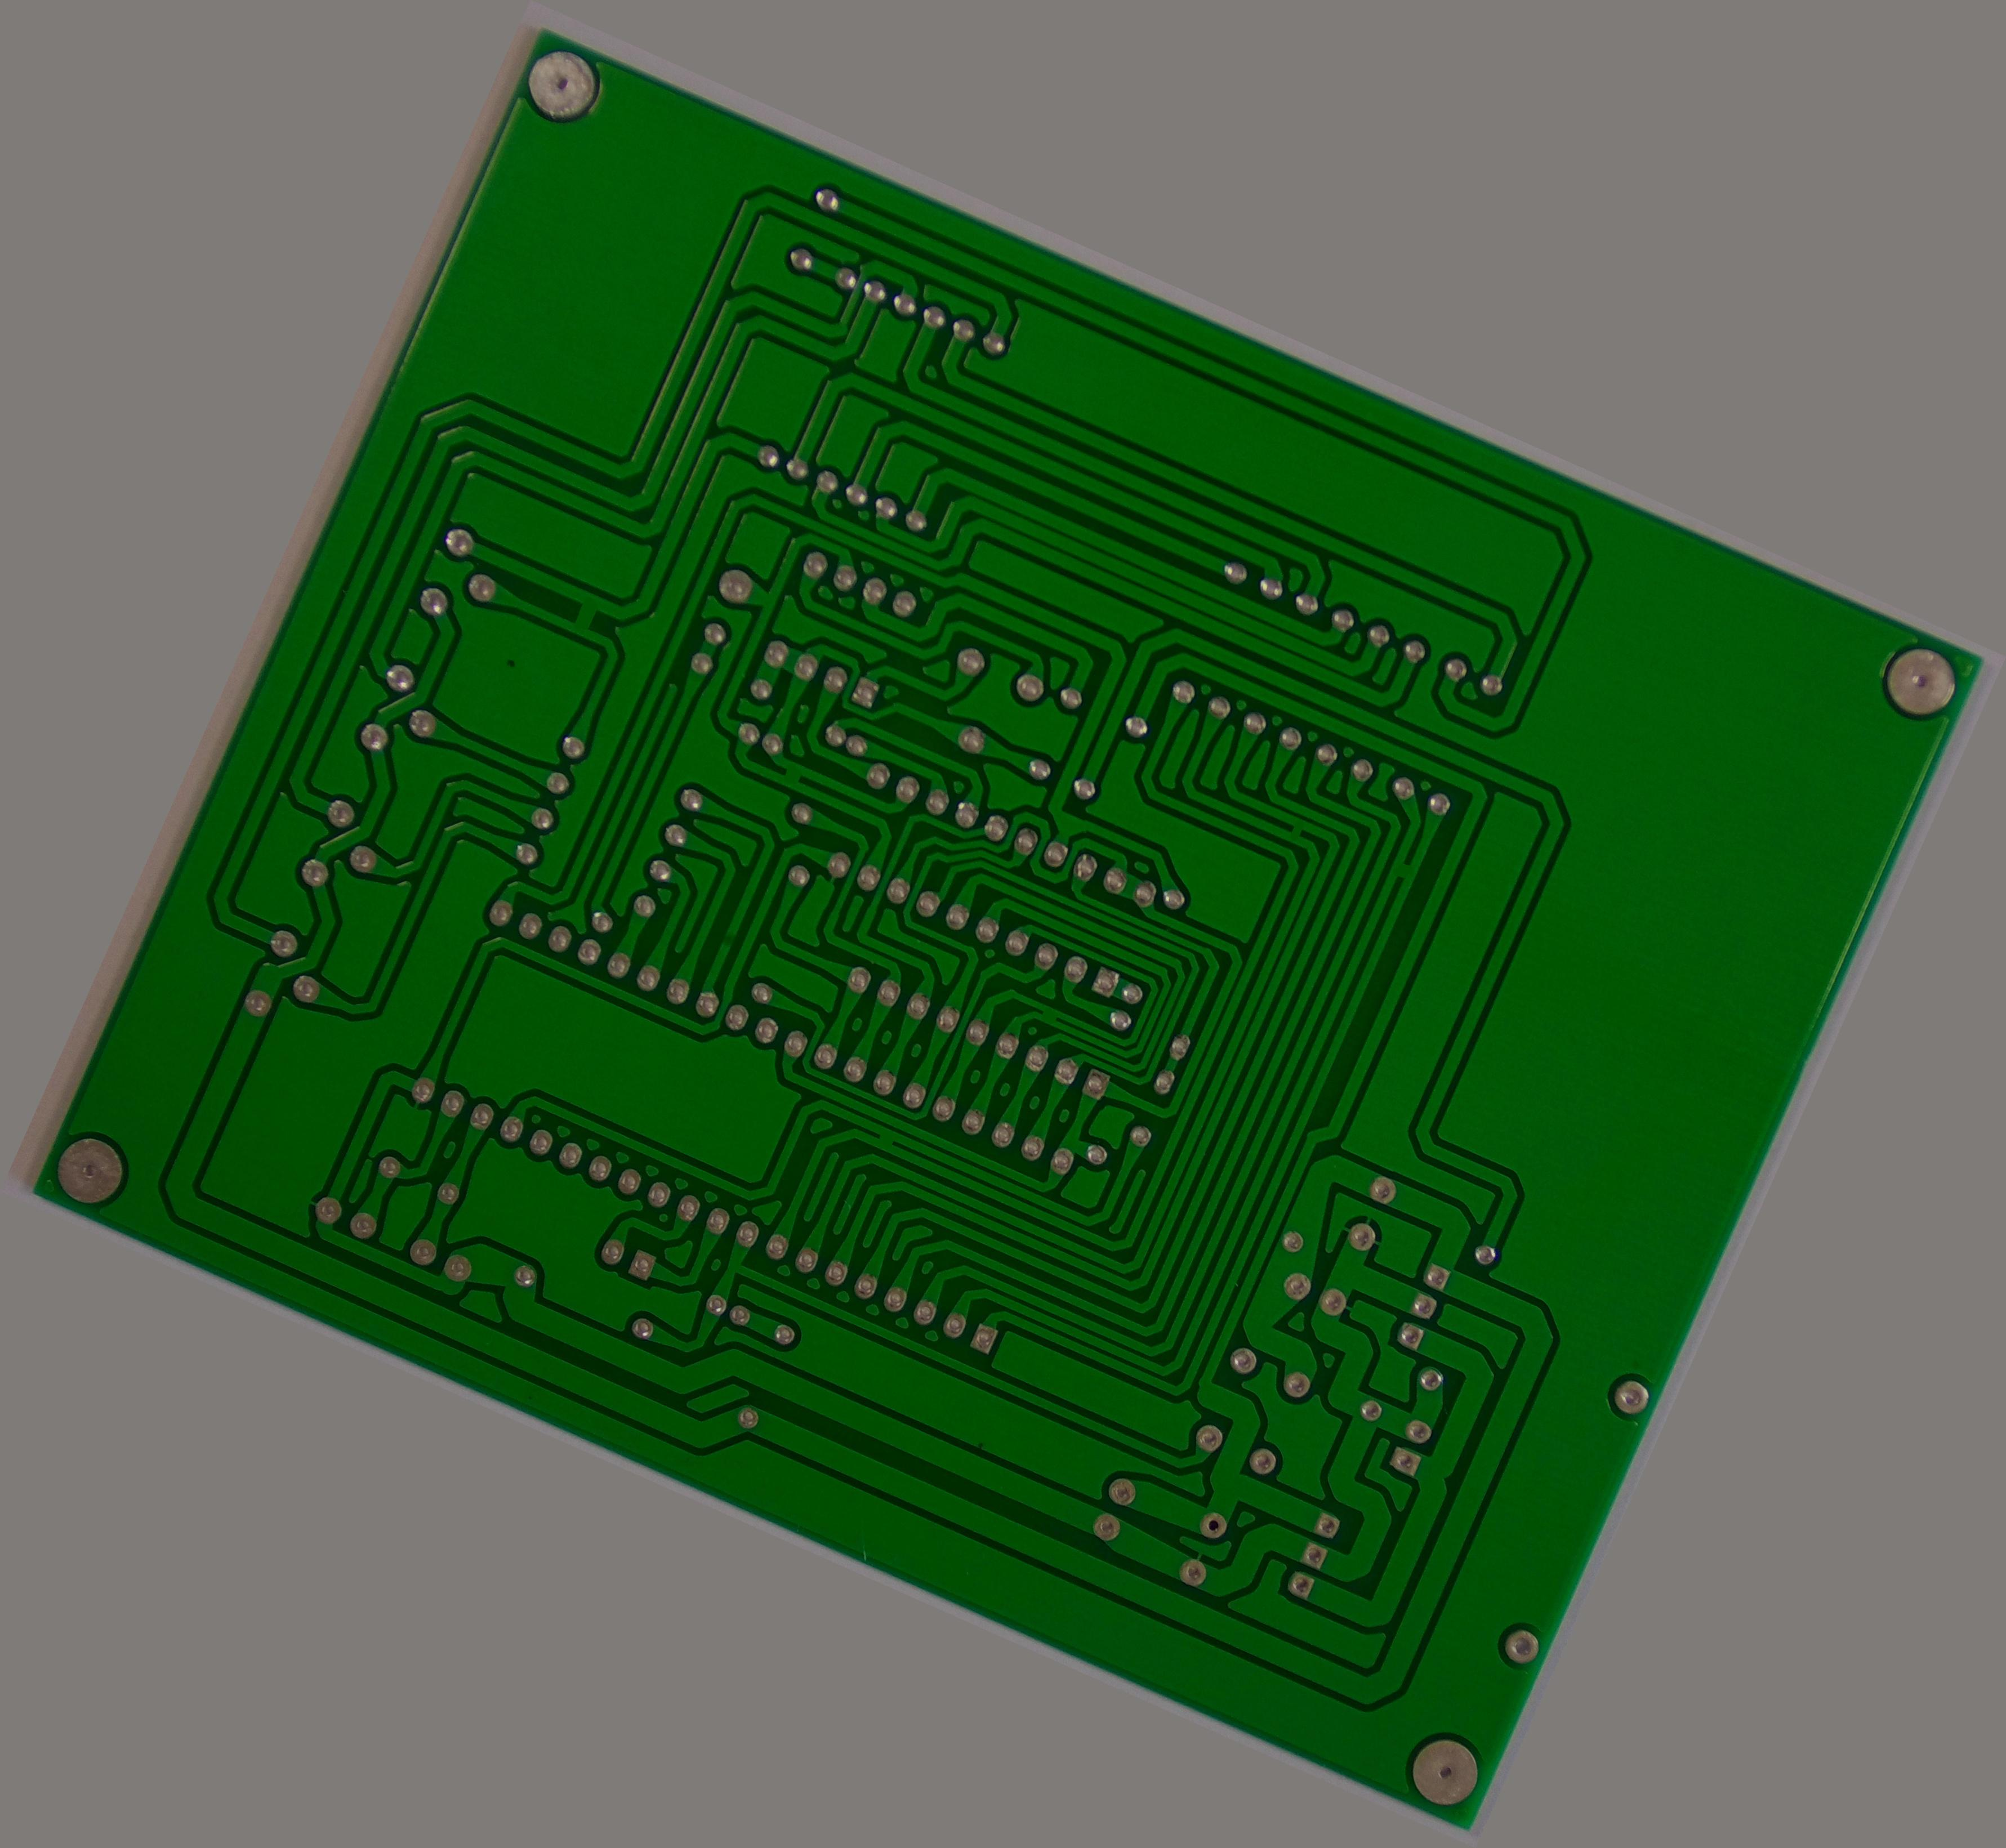short: (550, 583, 615, 646), (771, 755, 813, 796), (1382, 851, 1426, 891), (1276, 812, 1316, 851), (867, 1120, 905, 1158)
